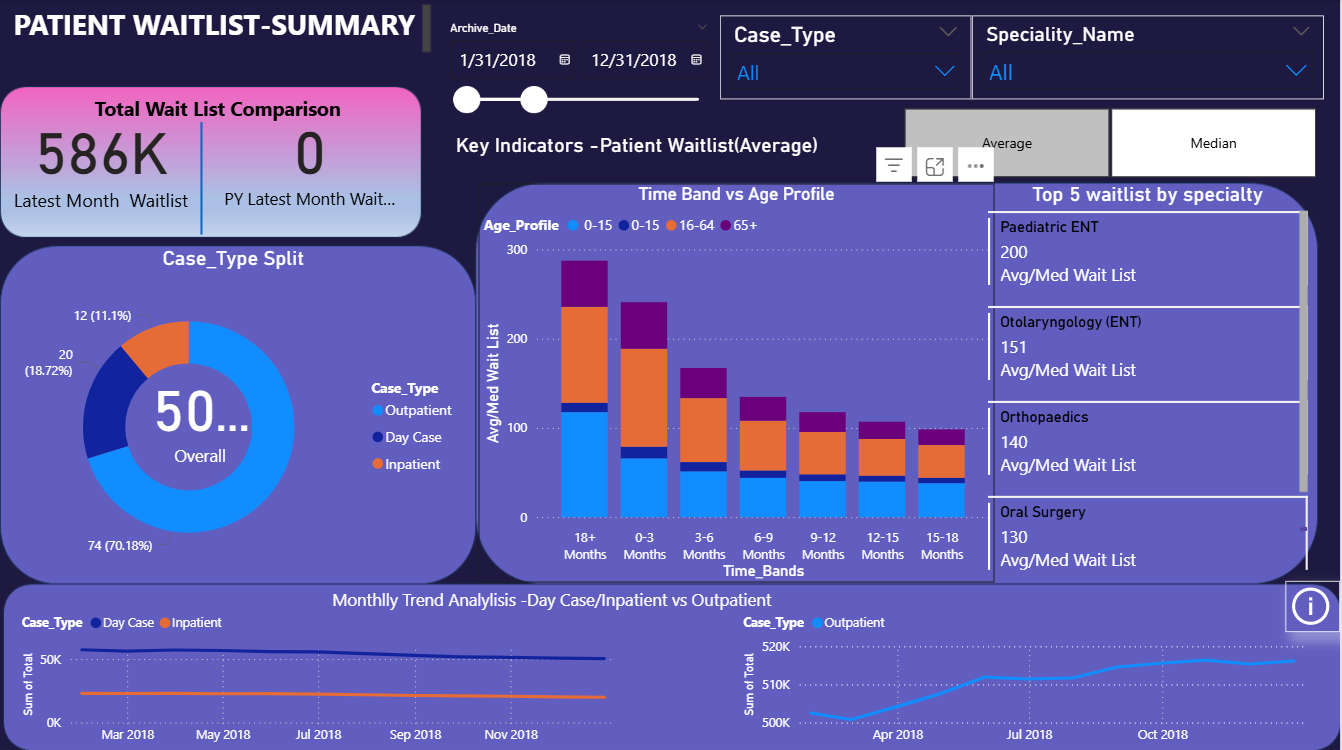

Layout of this report page (visuals, bound fields, positions):
{"tool":"powerbi","page":{"name":"SUMMARY","canvas":[1280,720],"ordinal":0},"visuals":[{"type":"card","fields":{"Values":["All_Data.Latest Month  Waitlist"]},"box":[0,80,192,144],"z":0},{"type":"card","fields":{"Values":["All_Data.PY Latest Month Waitlist"]},"box":[208.2,86.2,175.7,128.5],"z":1000},{"type":"slicer","fields":{"Values":["Calculation  Method.Calc Method"]},"box":[837.7,97.6,442.4,79.7],"z":2000},{"type":"donutChart","title":" Case_Type Split","fields":{"Category":["All_Data.Case_Type"],"Y":["All_Data.Avg/Med Wait List"]},"box":[0,235.8,445.7,322.1],"z":3000},{"type":"columnChart","title":"Time Band vs Age Profile","fields":{"Y":["All_Data.Avg/Med Wait List"],"Category":["All_Data.Time_Bands"],"Series":["All_Data.Age_Profile"]},"box":[457.1,175.7,492.8,382.2],"z":4000},{"type":"multiRowCard","title":"Top 5  waitlist by specialty","fields":{"Values":["All_Data.Avg/Med Wait List","All_Data.Speciality_Name"]},"box":[938.5,174,315.5,382.2],"z":5000},{"type":"lineChart","fields":{"Category":["All_Data.Archive_Date"],"Y":["Sum(All_Data.Total)"],"Series":["All_Data.Case_Type"]},"box":[16.3,575.8,592.1,144.8],"z":6000},{"type":"lineChart","fields":{"Category":["All_Data.Archive_Date"],"Y":["Sum(All_Data.Total)"],"Series":["All_Data.Case_Type"]},"box":[704.3,575.8,559.5,144.8],"z":7000},{"type":"slicer","fields":{"Values":["All_Data.Archive_Date"]},"box":[416.4,16.3,271.6,107.4],"z":8000},{"type":"slicer","fields":{"Values":["All_Data.Case_Type"]},"box":[688,16,240,80],"z":9000},{"type":"slicer","fields":{"Values":["All_Data.Speciality_Name"]},"box":[928,16,336,80],"z":10000},{"type":"textbox","box":[0,0,416.4,79.7],"z":11000},{"type":"card","fields":{"Values":["All_Data.Avg/Med Wait List"]},"box":[135,325.3,112.2,143.1],"z":12000},{"type":"shape","box":[8.1,117.1,367.6,107.4],"z":13000},{"type":"textbox","box":[16.3,86.2,383.9,37.4],"z":14000},{"type":"textbox","box":[312.3,557.9,540,43.9],"z":15000},{"type":"card","fields":{"Values":["All_Data.Dynamic Title"]},"box":[359.5,102.5,496.1,71.6],"z":16000},{"type":"actionButton","box":[1228,556.3,52,48.8],"z":16001}]}

Visuals, with their boxes in screenshot pixels (x1, y1, x2, y2), scaled from the page's 1280x720 canvas onto the 1342x750 screenshot:
card - All_Data.Latest Month  Waitlist: left=0, top=83, right=201, bottom=233
card - All_Data.PY Latest Month Waitlist: left=218, top=90, right=402, bottom=224
slicer - Calculation  Method.Calc Method: left=878, top=102, right=1341, bottom=185
" Case_Type Split" donutChart: left=0, top=246, right=467, bottom=581
"Time Band vs Age Profile" columnChart: left=479, top=183, right=996, bottom=581
"Top 5  waitlist by specialty" multiRowCard: left=984, top=181, right=1315, bottom=579
lineChart - All_Data.Archive_Date x Sum(All_Data.Total): left=17, top=600, right=638, bottom=749
lineChart - All_Data.Archive_Date x Sum(All_Data.Total): left=738, top=600, right=1325, bottom=749
slicer - All_Data.Archive_Date: left=437, top=17, right=721, bottom=129
slicer - All_Data.Case_Type: left=721, top=17, right=973, bottom=100
slicer - All_Data.Speciality_Name: left=973, top=17, right=1325, bottom=100
textbox: left=0, top=0, right=437, bottom=83
card - All_Data.Avg/Med Wait List: left=142, top=339, right=259, bottom=488
shape: left=8, top=122, right=394, bottom=234
textbox: left=17, top=90, right=420, bottom=129
textbox: left=327, top=581, right=894, bottom=627
card - All_Data.Dynamic Title: left=377, top=107, right=897, bottom=181
actionButton: left=1287, top=579, right=1341, bottom=630
